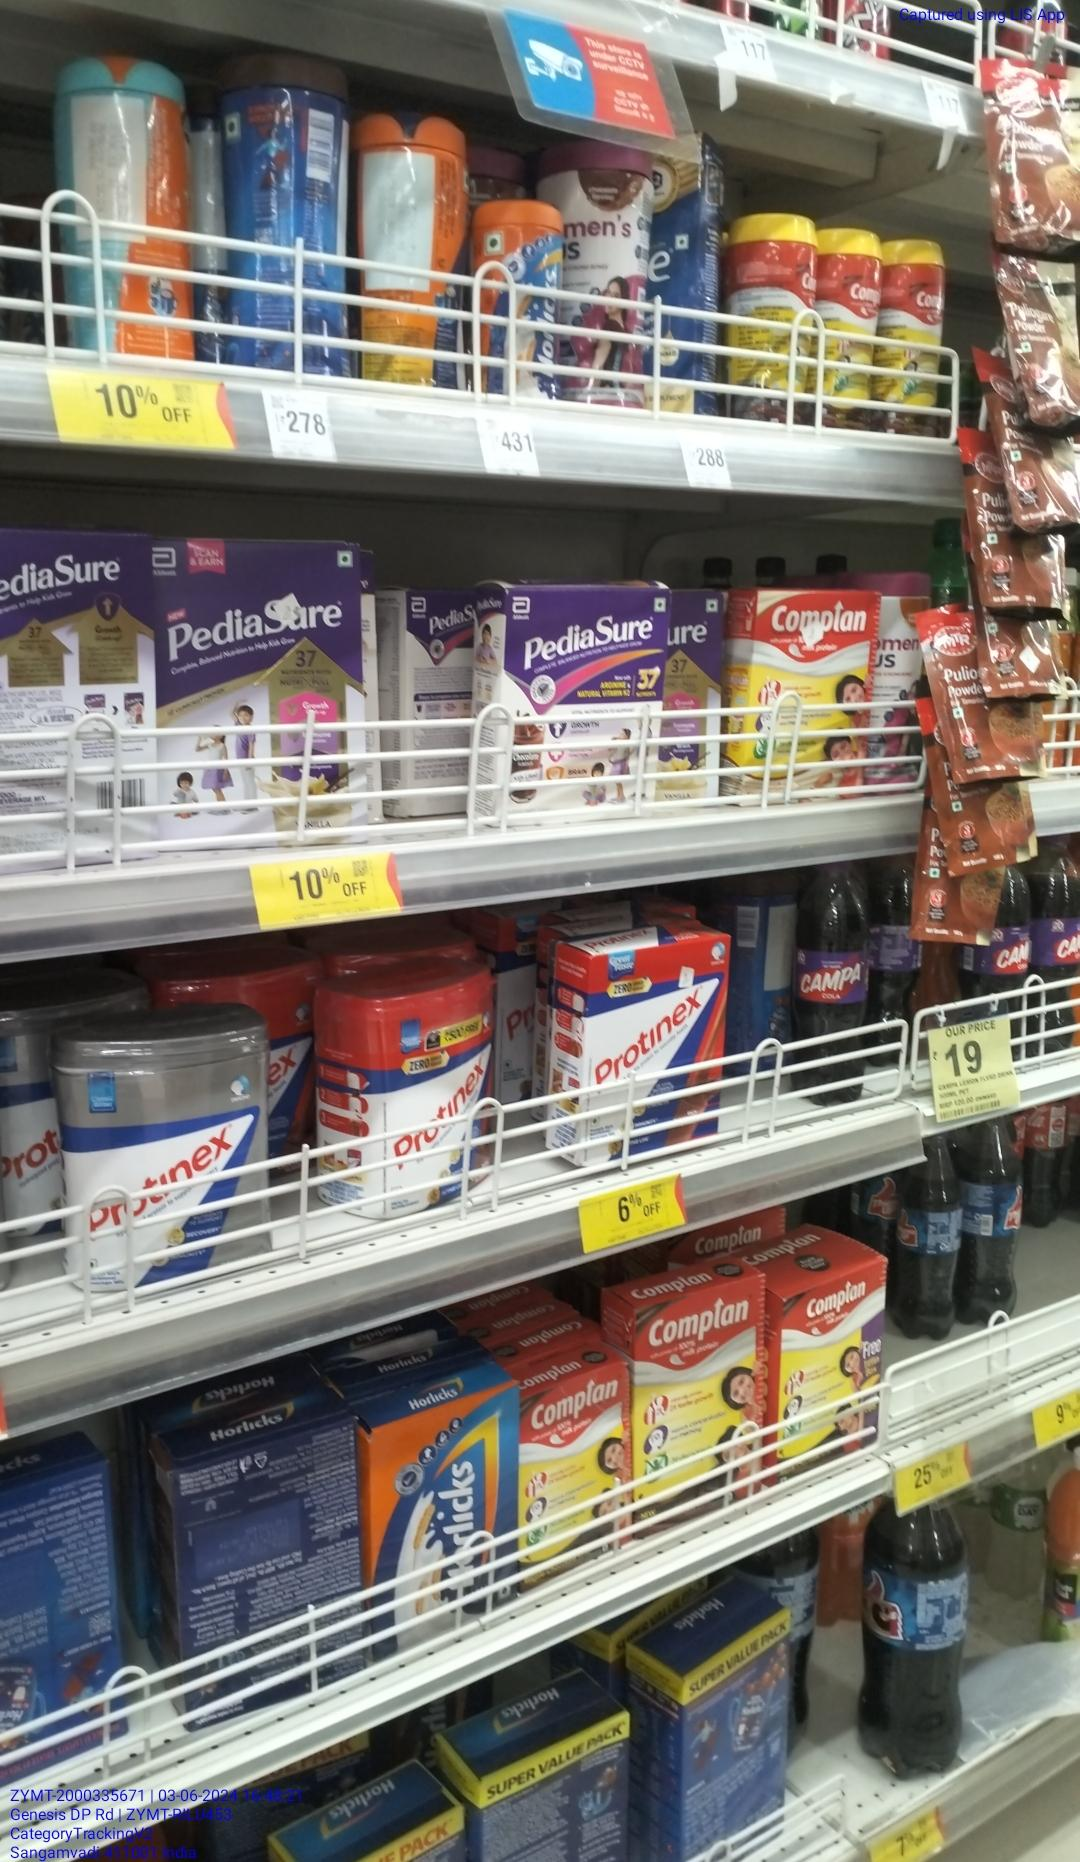COMPLAN_CHOCOLATE_200_GMS_PACK: (523, 1398, 629, 1564), (782, 1299, 887, 1461)
COMPLAN_CHOCOLATE_500_GMS_PACK: (634, 1303, 764, 1536)
COMPLAN_KESAR_BADAM_200_GMS_PACK: (743, 592, 868, 802)
HORLICK_CLASSIC_MALT_200_G_JAR: (472, 200, 562, 397)
PEDIASURE_CHOCOLATE_500_G_PACK: (508, 590, 657, 816)
PROTINEX_CHOCOLATE_400_G_JAR: (363, 991, 512, 1207)
PROTINEX_ORIGINAL_400_G_JAR: (60, 1043, 283, 1273)
